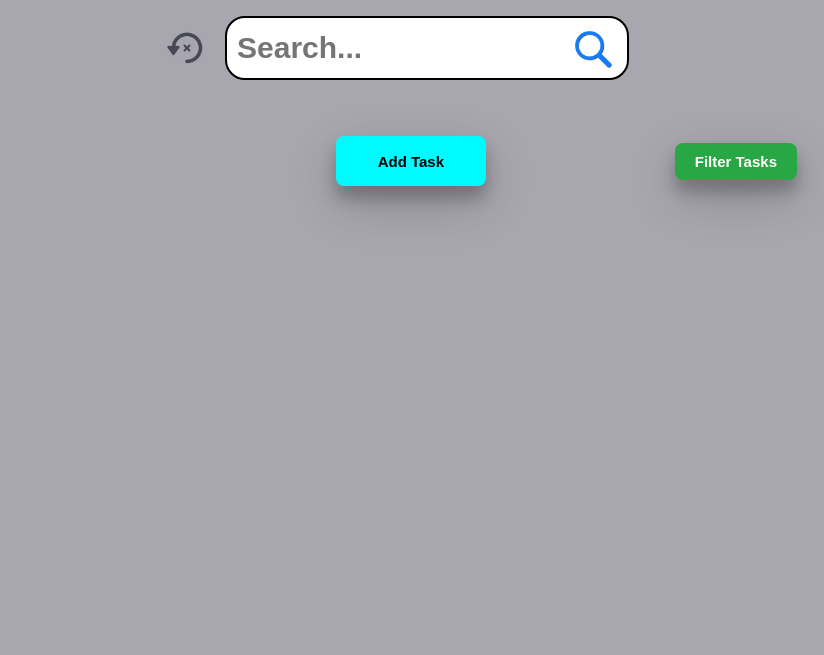
Scenario: Filter dropdown changes display when Filter Tasks button is clicked
Click the button "Filter Tasks".
click(736, 161)  # box [675,142,797,180]
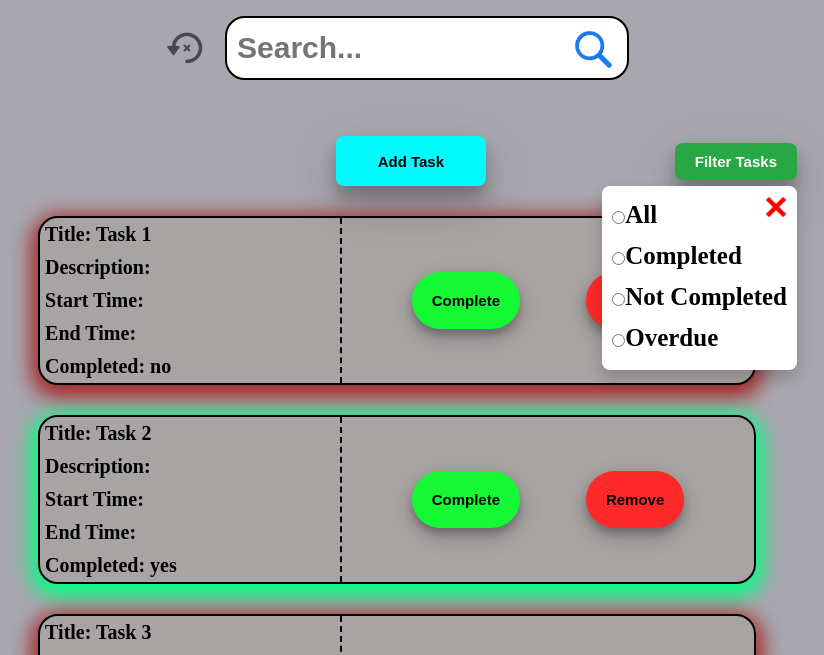
Check: the element with class "DropdownContent" is shown, box [602,186,797,370]
Click the button "Filter Tasks".
click(736, 161)  # box [675,142,797,180]
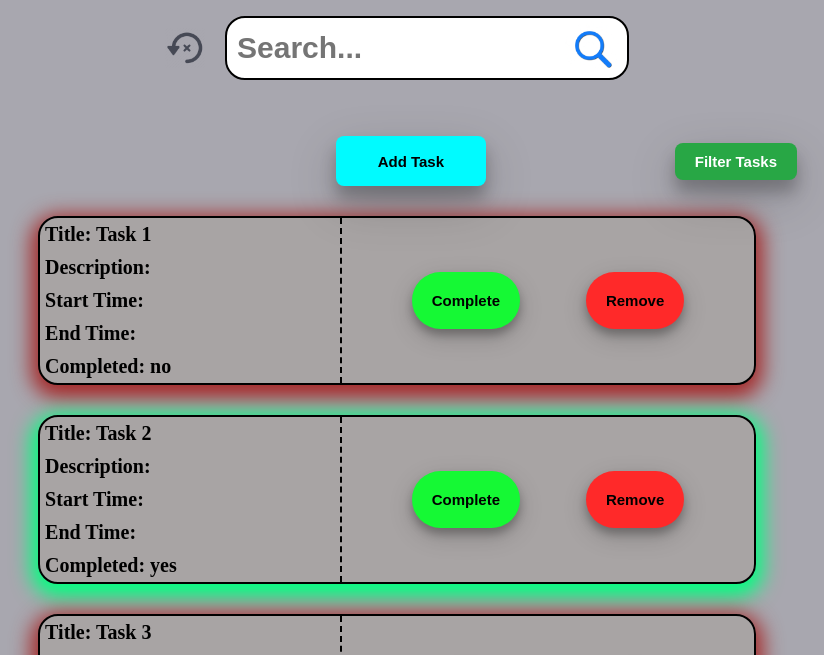
Check: the element with class "DropdownContent" is gone
